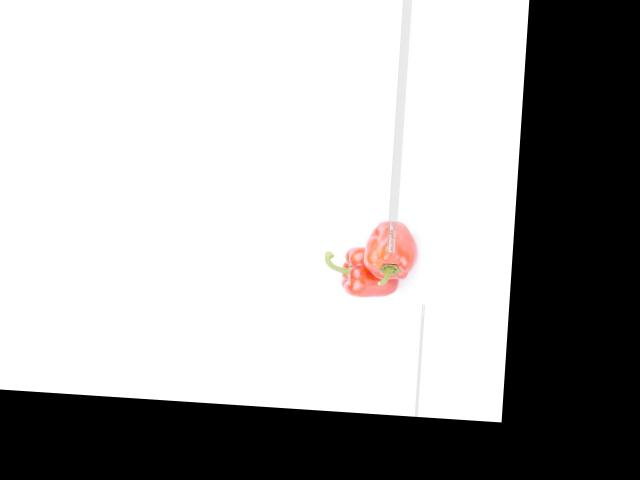bell_pepper: (357, 211, 418, 285)
